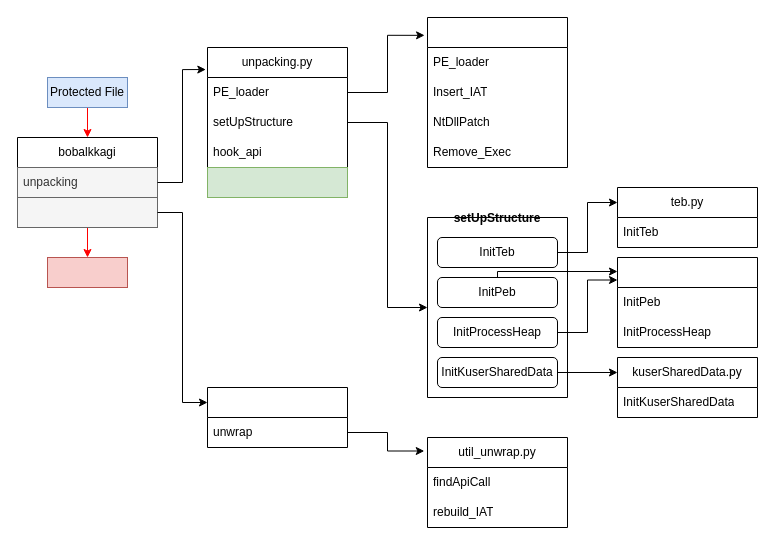
This 775x545 diagram has some shape labels left out. Here are the shapes that lost their labels. From the top down, the box of each, then its label:
(426, 16, 568, 168): loader.py
(206, 166, 348, 198): return dump, OEP
(16, 196, 158, 228): unwrapping
(46, 256, 128, 288): dump file
(616, 256, 758, 348): peb.py
(206, 386, 348, 448): unwrapping.py
